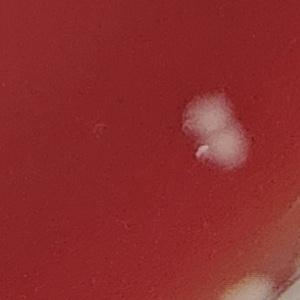colony: (192, 121, 257, 180), (178, 91, 241, 138), (208, 270, 280, 300)
